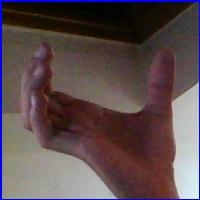space: (19, 36, 187, 171)
